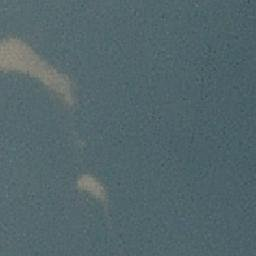debris: (1, 40, 25, 71), (74, 174, 106, 195), (53, 69, 69, 100), (27, 48, 39, 78), (40, 59, 49, 83)
